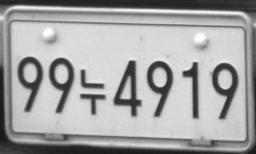1: (178, 61, 206, 119)
4: (113, 60, 142, 118)
9: (210, 61, 239, 119), (145, 60, 174, 117), (16, 56, 43, 112), (48, 57, 75, 113)
누: (79, 68, 106, 115)
